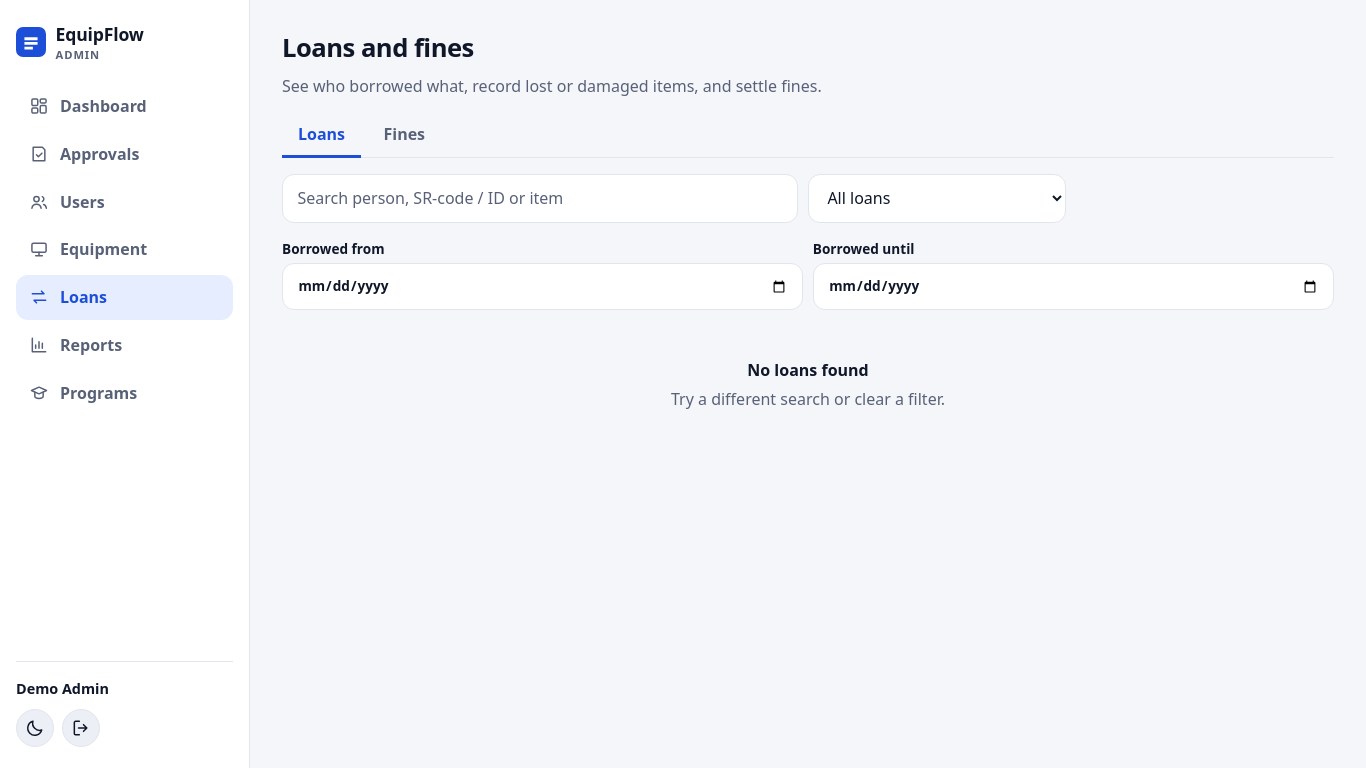
Test: Fines › starts with the unpaid fines, and shows what is owed in total
This screenshot has width=1366, height=768.
Click the tab "Fines".
click(404, 136)  # box [368,114,441,158]
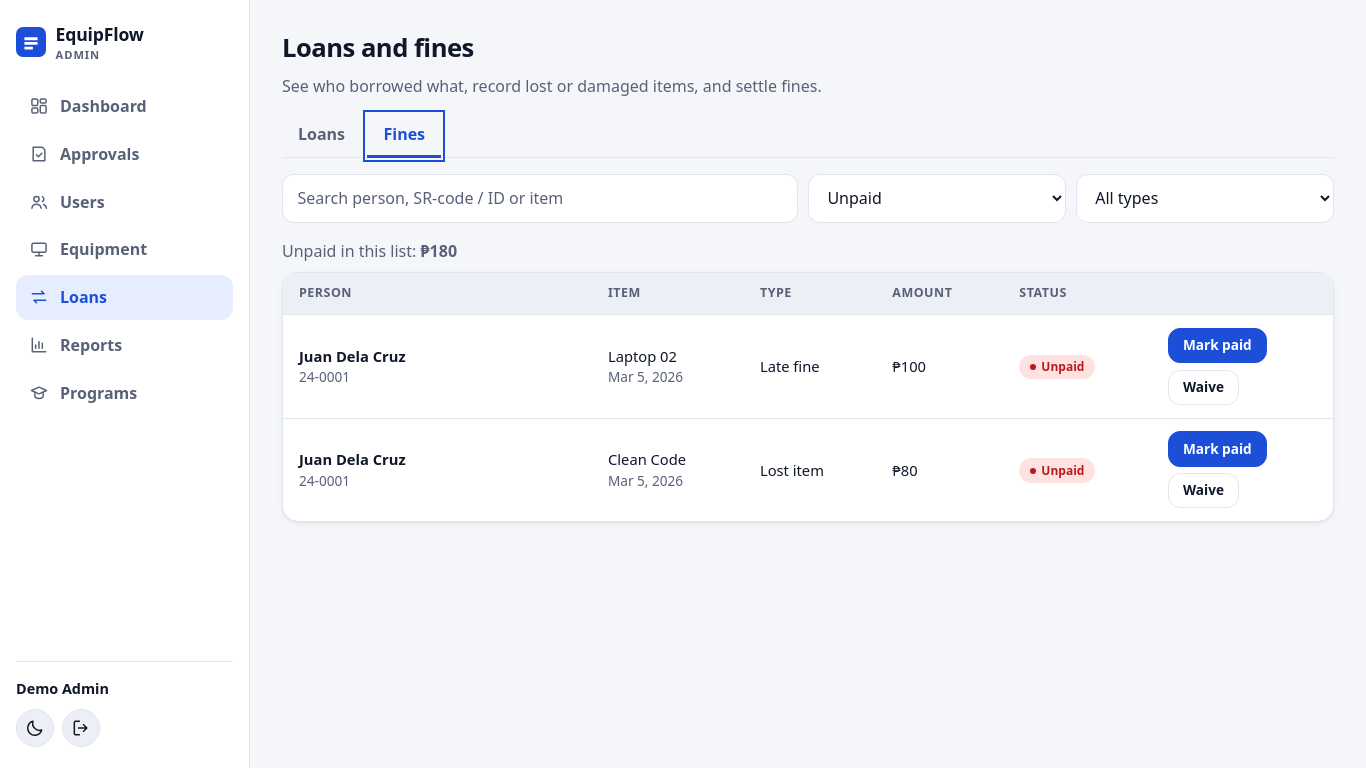
Expected: the element with test id "unpaid-total" shows "180", [420,240,457,262]
Expected: the text "Laptop 02" shows "Late fine", [760,356,820,376]
Expected: the text "Laptop 02" shows "Unpaid", [1041,358,1084,375]
